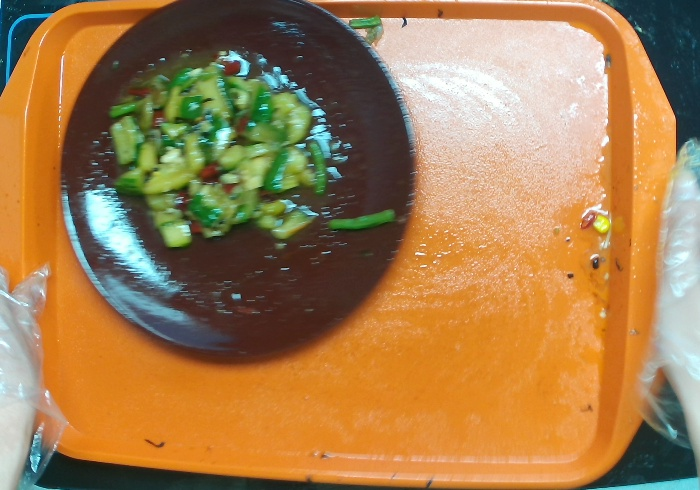HZYJPL-Ka_Fei_Yuan_Pan: (52, 1, 420, 362)
